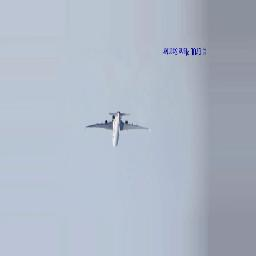Airplane: (87, 110, 152, 149)
